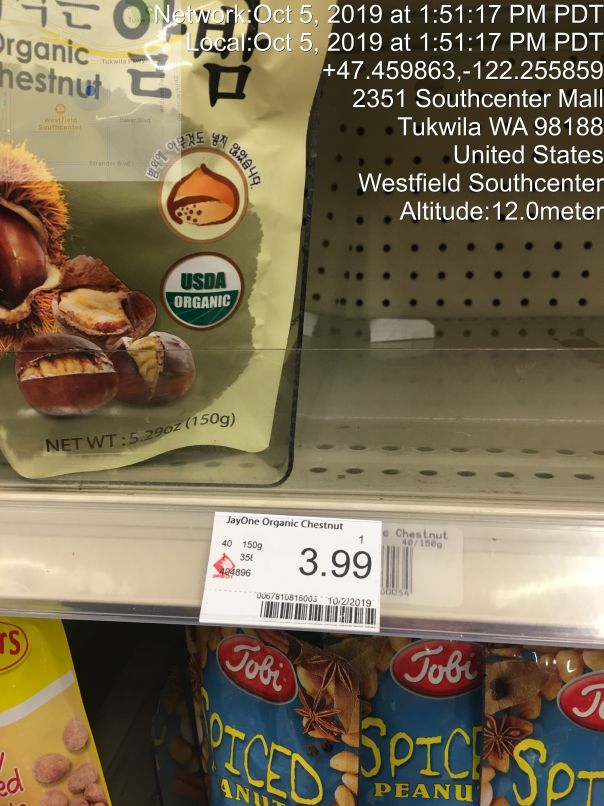Label: (201, 495, 392, 660)
Location: (343, 80, 604, 197)
Organic Chestnut: (3, 1, 310, 475)
Time: (137, 1, 599, 52)
Void: (316, 4, 599, 485)
